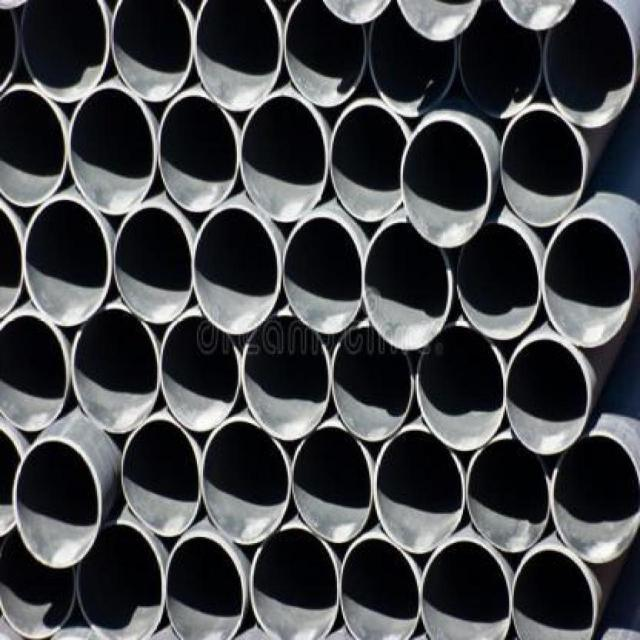pipe: (13, 436, 104, 570), (543, 216, 634, 349), (544, 1, 638, 129), (551, 431, 639, 565), (374, 426, 467, 552), (363, 223, 454, 351), (70, 305, 161, 433), (191, 206, 281, 334), (415, 323, 505, 451), (201, 417, 291, 545), (400, 119, 489, 248), (241, 314, 332, 440), (69, 85, 157, 215), (24, 197, 112, 326), (239, 95, 327, 223), (77, 520, 165, 640), (369, 1, 457, 117), (249, 526, 340, 638), (456, 223, 541, 340), (466, 436, 551, 553), (501, 107, 583, 227), (194, 0, 282, 111), (157, 94, 239, 213), (291, 425, 373, 544), (460, 1, 543, 118), (113, 204, 193, 324), (283, 214, 363, 334), (331, 325, 413, 442), (507, 340, 590, 455), (121, 418, 201, 537), (330, 103, 408, 223), (161, 315, 241, 432), (419, 540, 513, 639), (283, 0, 368, 108), (22, 0, 110, 103), (340, 535, 422, 639), (166, 535, 246, 640), (111, 0, 193, 102), (0, 88, 68, 208), (0, 312, 68, 432), (1, 532, 77, 636), (512, 548, 597, 639), (0, 202, 23, 318)
